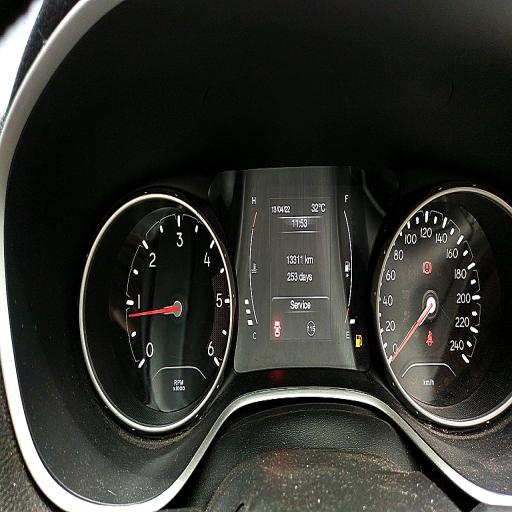belt: (426, 330, 434, 346)
brake_system_fault: (422, 261, 432, 274)
tachometer: (126, 210, 232, 395)
